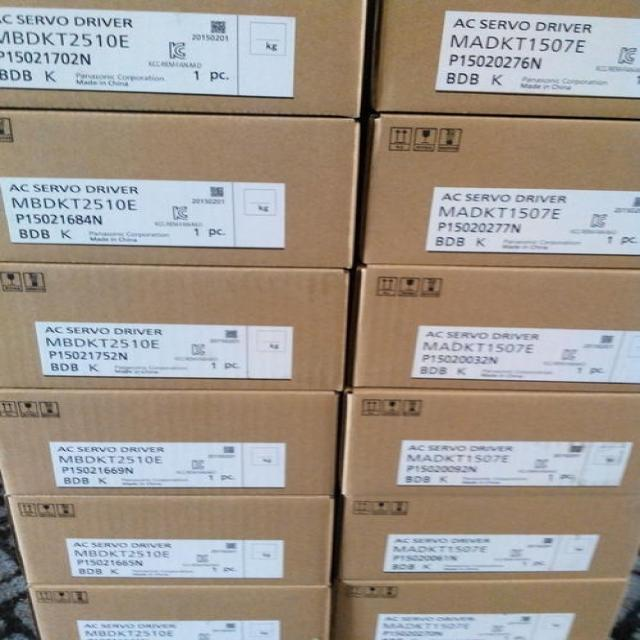box: (0, 109, 365, 271), (3, 260, 356, 392), (1, 2, 371, 120), (359, 117, 639, 271), (0, 388, 346, 497), (347, 267, 639, 391), (364, 1, 639, 122), (338, 388, 639, 495), (8, 495, 337, 586), (329, 493, 639, 582), (326, 579, 630, 639), (30, 584, 334, 639)
